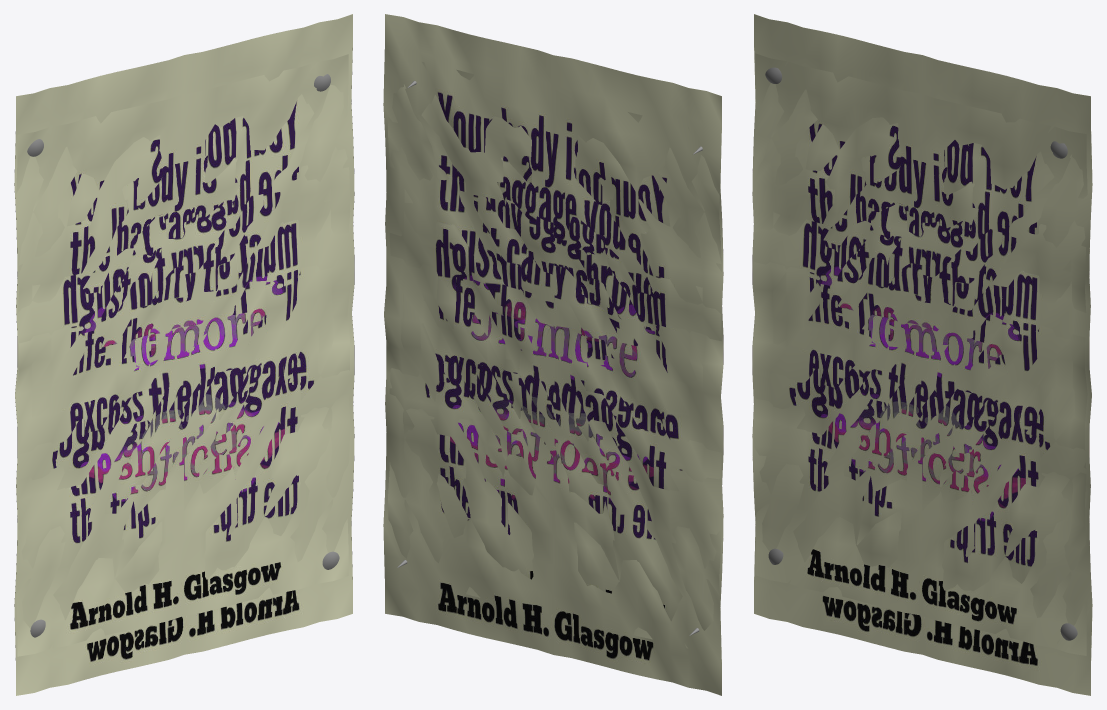
The model's file is Cog-Poster.FBX.
3 renders of one model, left to right at view 1: azimuth 30°, elevation 25°; view 2: azimuth 150°, elevation 25°; view 3: azimuth 330°, elevation 25°, orthographic.
Visible parts, largest first — view 1: Mesh01, Box01; view 2: Box01, Mesh01; view 3: Box01, Mesh01.
Boxes of the visible parts, x1,y1,x2,y2 form: Mesh01: (16, 54, 350, 656); Box01: (14, 14, 354, 695); Box01: (383, 14, 723, 695); Mesh01: (388, 62, 721, 648); Box01: (752, 14, 1092, 695); Mesh01: (753, 53, 1087, 655).
Bounding box in the file's own units: 2.8 × 4.76 × 0.1712.
